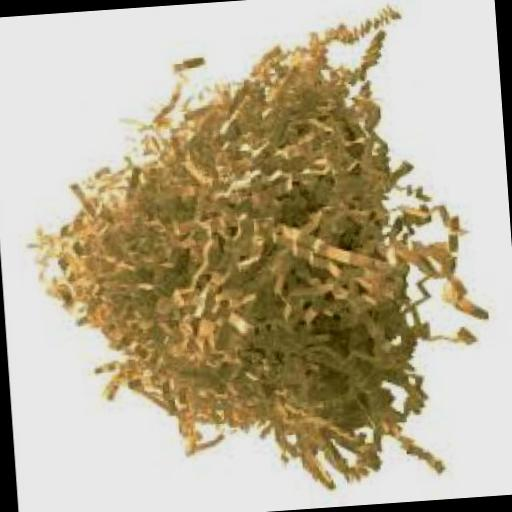paper: (8, 0, 498, 509)
